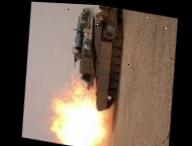tank: (63, 3, 132, 115)
